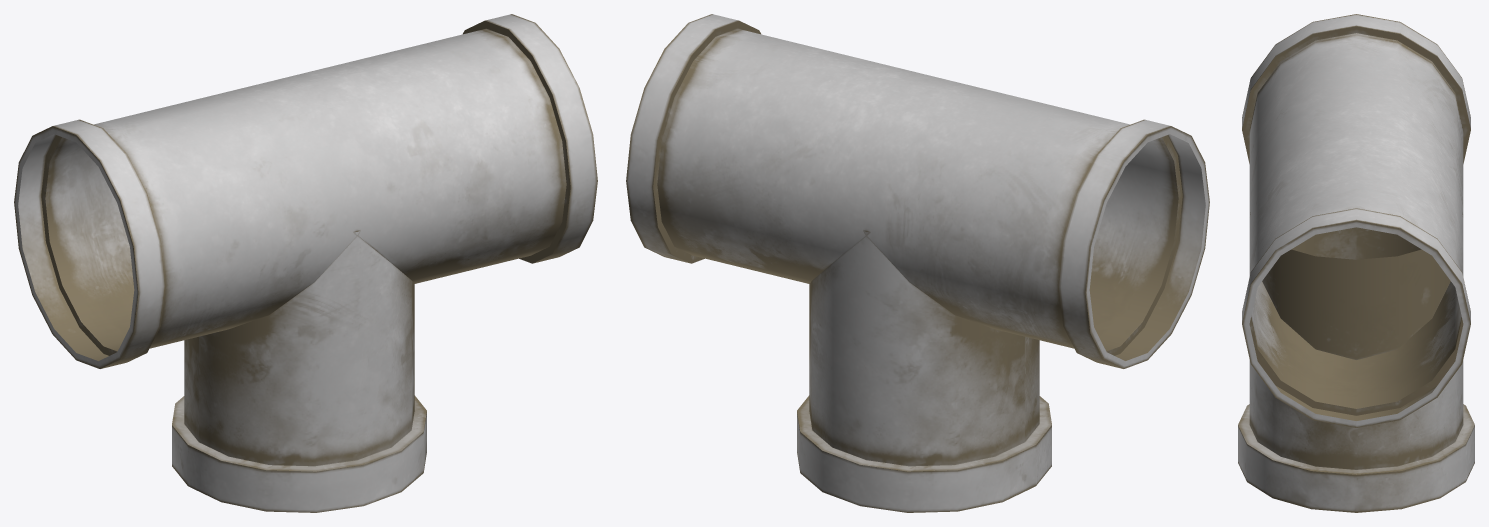
The model's file is duct3.fbx.
The picture shows the model from 3 angles, left to right: view 1: azimuth 30°, elevation 25°; view 2: azimuth 150°, elevation 25°; view 3: azimuth 270°, elevation 25°; orthographic projection. The views are drawn at different scales.
Parts seen in each view (by area): view 1: duct3; view 2: duct3; view 3: duct3.
Boxes of the visible parts, <box> form: duct3: <box>14,14,597,512</box>; duct3: <box>626,14,1209,512</box>; duct3: <box>1238,14,1474,512</box>.
Size of the model in its own units: 0.9218 by 0.7257 by 0.447.
